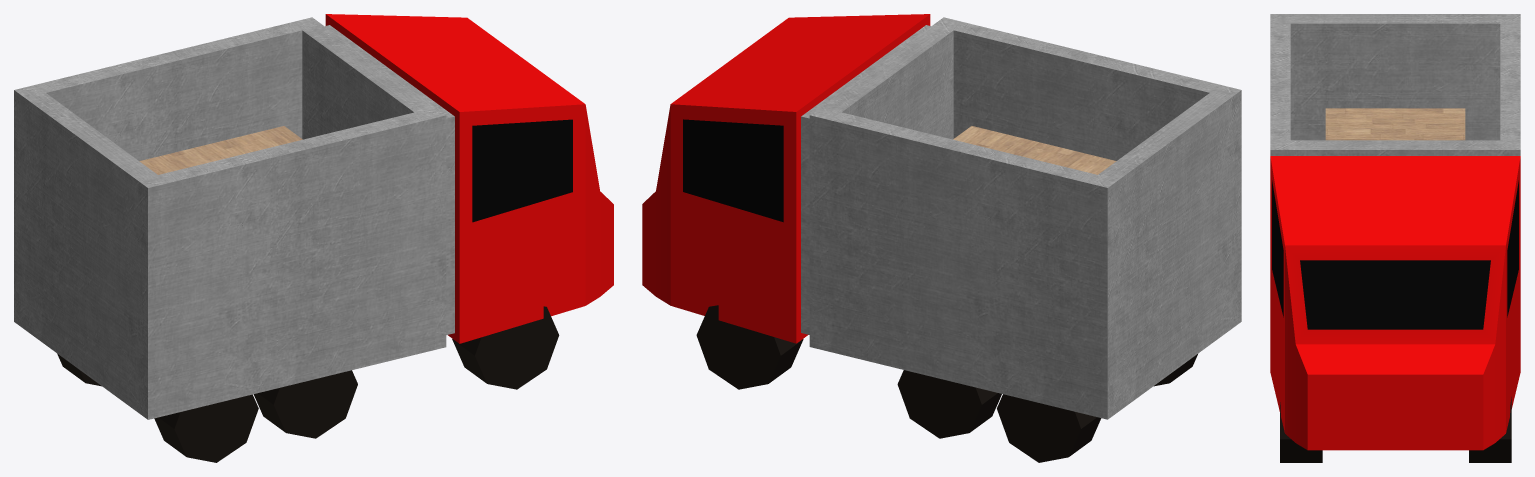
Rendered from beaver.obj.
3 renders of one model, left to right at view 1: azimuth 30°, elevation 25°; view 2: azimuth 150°, elevation 25°; view 3: azimuth 270°, elevation 25°, orthographic. The views are drawn at different scales.
Bounding box in the file's own units: 1.98 × 1.15 × 0.9443.
5 materials, 2 textured.
